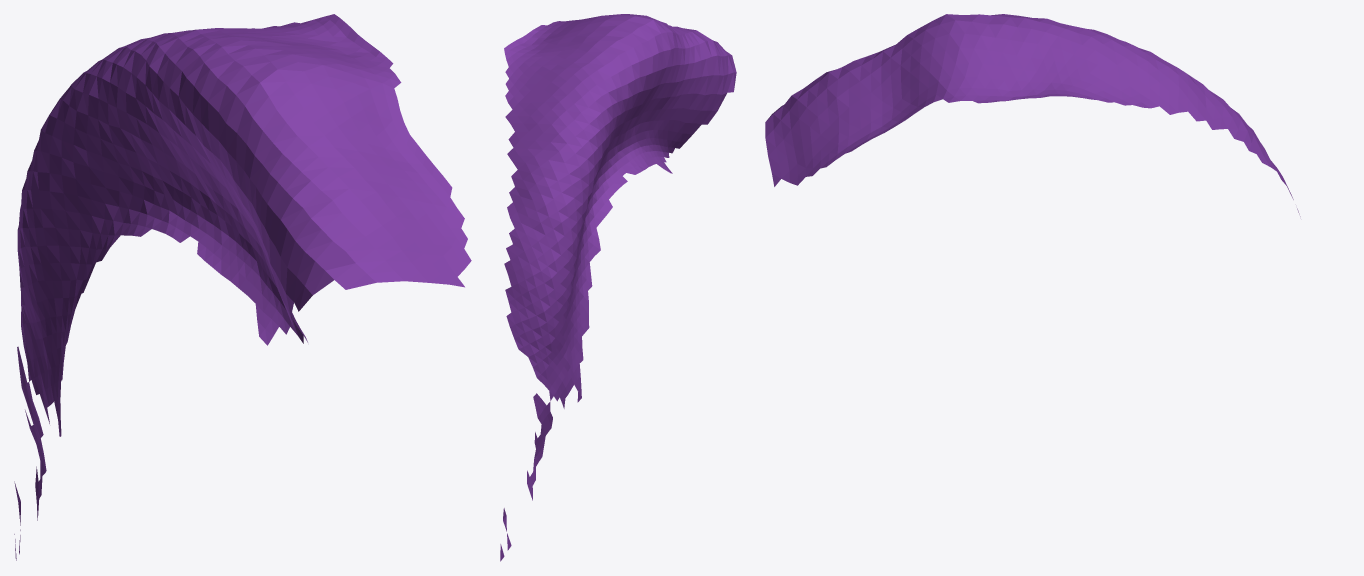
The model's file is rh_rostralanteriorcingulate.glb.
3 renders of one model, left to right at view 1: azimuth 30°, elevation 25°; view 2: azimuth 150°, elevation 25°; view 3: azimuth 270°, elevation 25°, orthographic. The views are drawn at different scales.
Parts seen in each view (by area): view 1: world; view 2: world; view 3: world.
Boxes of the visible parts, bbox=[...] form: world: bbox=[14, 14, 471, 560]; world: bbox=[500, 14, 736, 561]; world: bbox=[765, 14, 1300, 216].
Size of the model in its own units: 11.44 by 35.4 by 33.88.
